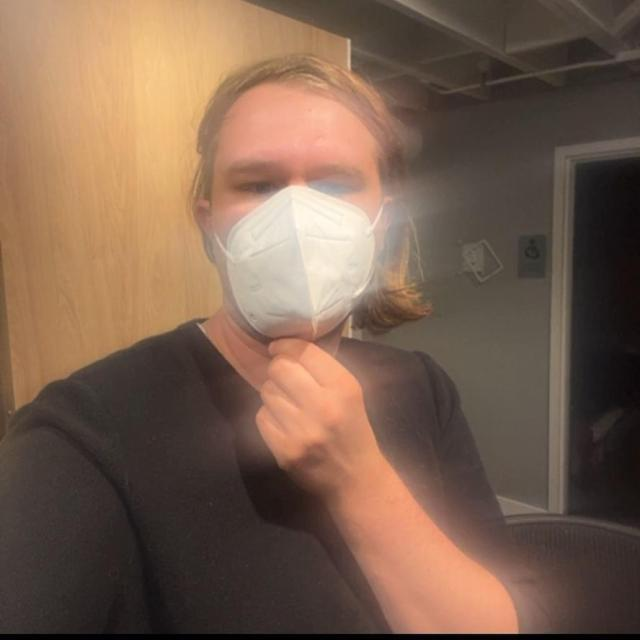no hat: (181, 63, 414, 364)
